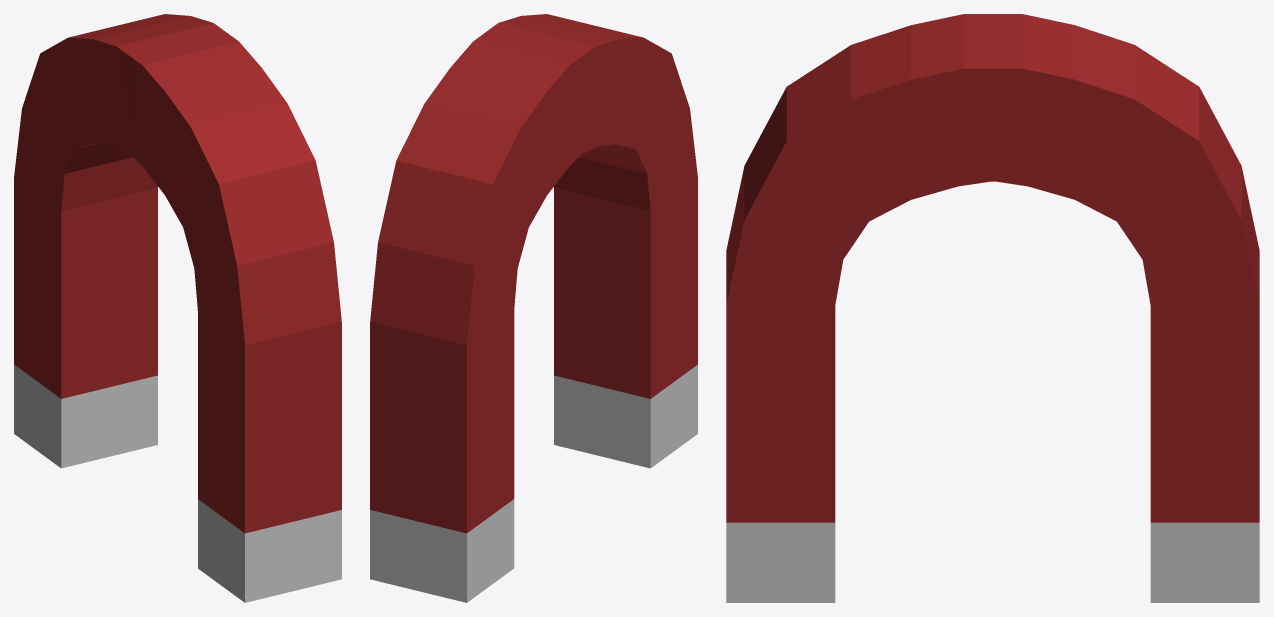
Rendered from Magnet.fbx.
3 views of the same model, side by side, from view 1: azimuth 30°, elevation 25°; view 2: azimuth 150°, elevation 25°; view 3: azimuth 270°, elevation 25° (orthographic). The views are drawn at different scales.
Parts seen in each view (by area): view 1: pCube3; view 2: pCube3; view 3: pCube3.
Boxes of the visible parts, x1,y1,x2,y2 form: pCube3: (14,14,341,602); pCube3: (370,14,697,602); pCube3: (726,14,1259,602).
Size of the model in its own units: 0.00965 by 0.044 by 0.0398.
